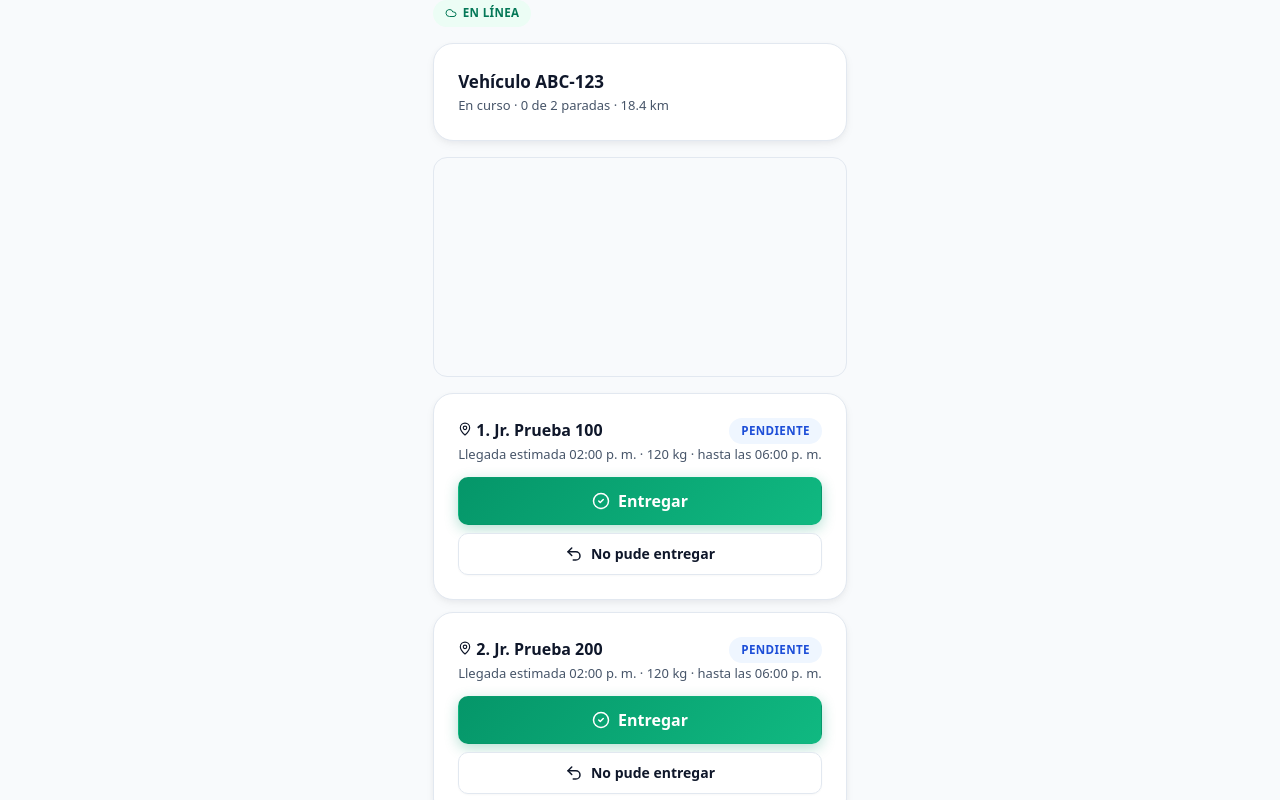
it: ConductorPage (RF-004, RF-008, RNF-004, RNF-010) › reprogramar guarda la acción en la cola y la marca pendiente de sincronizar
The width and height of the screenshot is (1280, 800).
Click the button with aria-label "No pude entregar la parada 1".
click(640, 554)  # box [458,533,822,575]
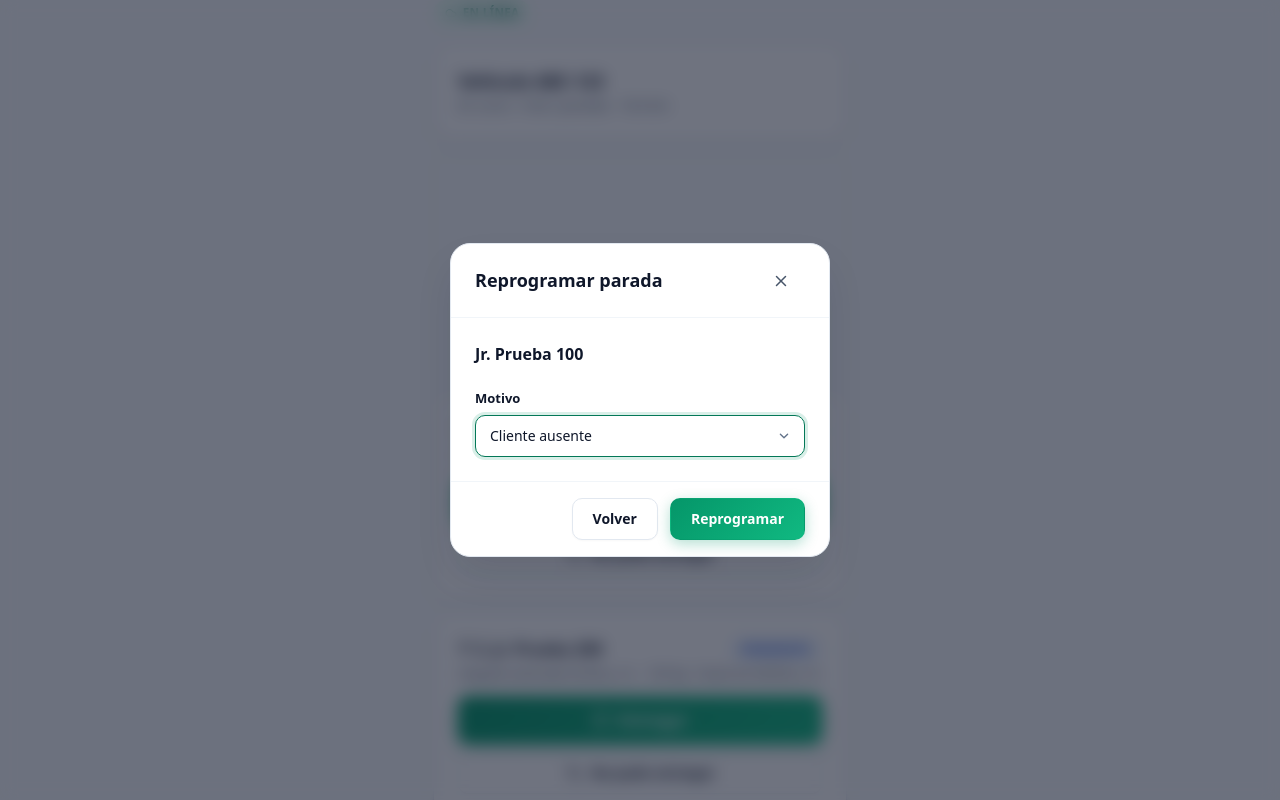
Select "Local cerrado" in the dropdown labelled "Motivo" at [640, 436], box [475,415,805,457]
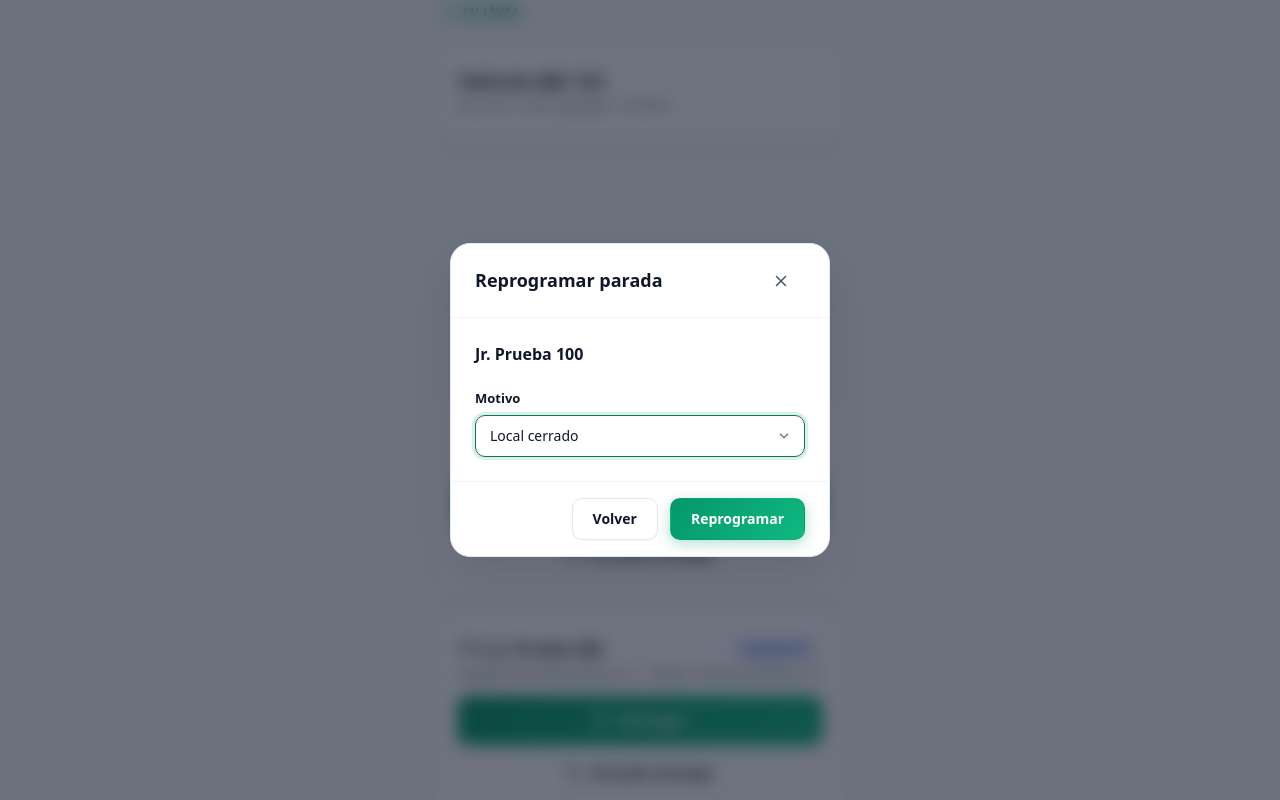
Click the button "Reprogramar".
click(737, 519)  # box [670,498,805,540]
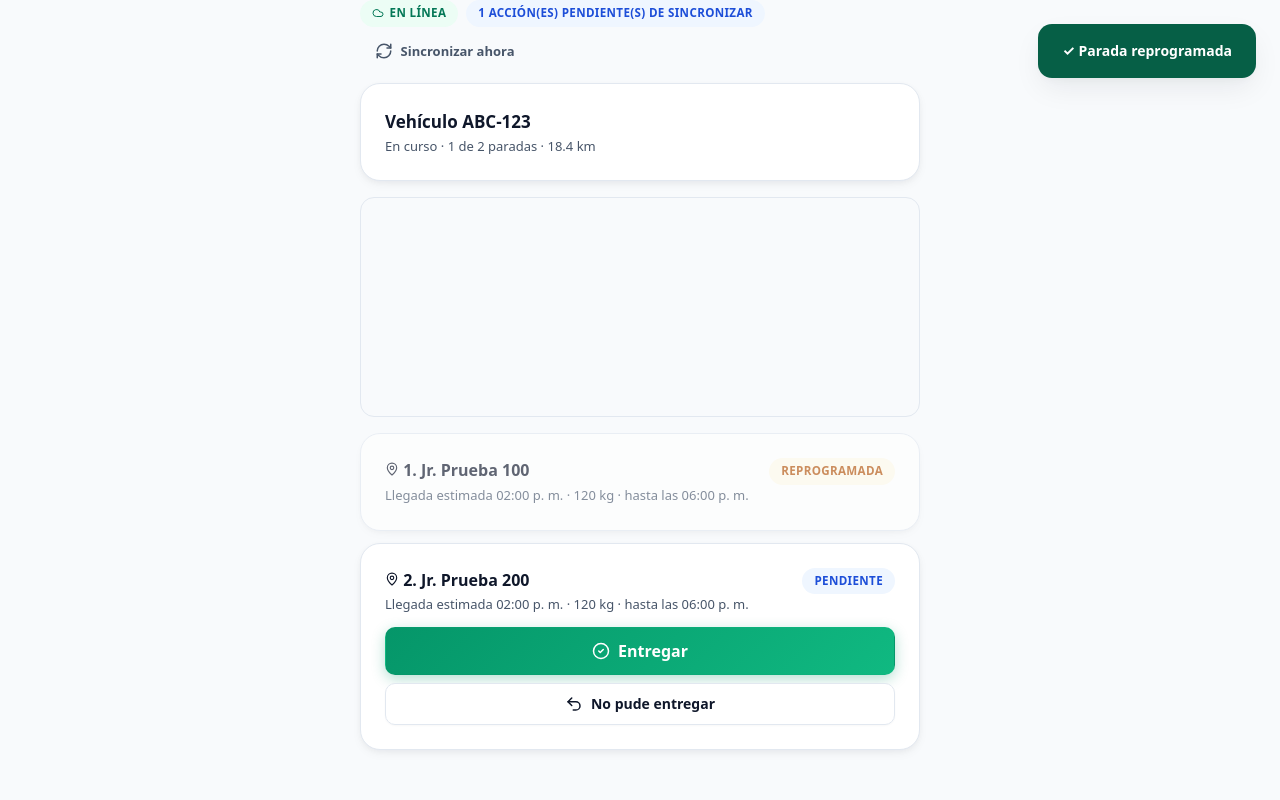
Expected: the text "Reprogramada" is shown, [769,458,895,485]
Expected: the text "1 acción(es) pendiente(s) de sincronizar" is shown, [466,0,765,26]
